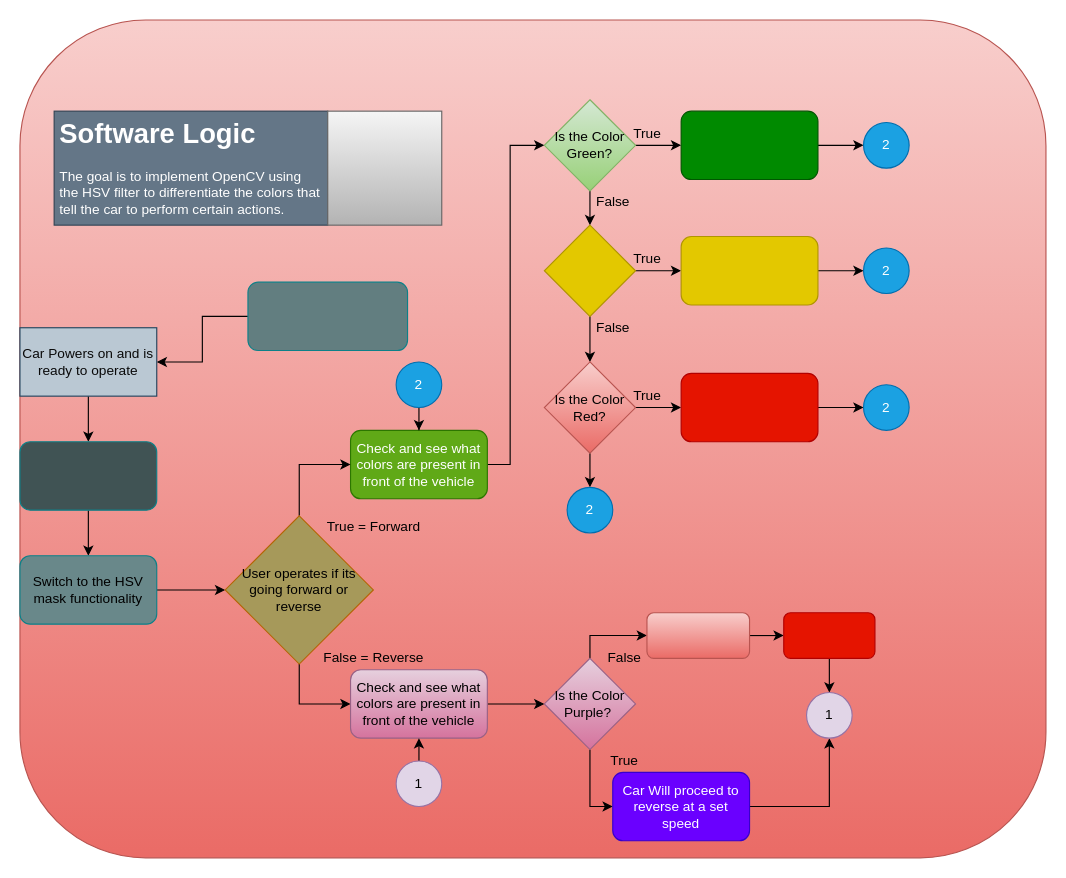
The diagram is 1066 pixels wide and 878 high, and some of its shapes have lost their labels. Each missing label, with the centre of its shape:
Author: Paul Thai: (384,167)
Car stops: (829,635)
Car will move forward at a set speed (slower).: (749,270)
Car will move forward at a set speed.: (749,145)
Car will stop: (749,407)
Color is Red: (698,635)
Get all libraries and scripts onto the Arudion or RPI4: (327,316)
Is the Color Yellow?: (589,270)
Open the Frame and then toggle the grayscale mask funcitonality: (88,475)
